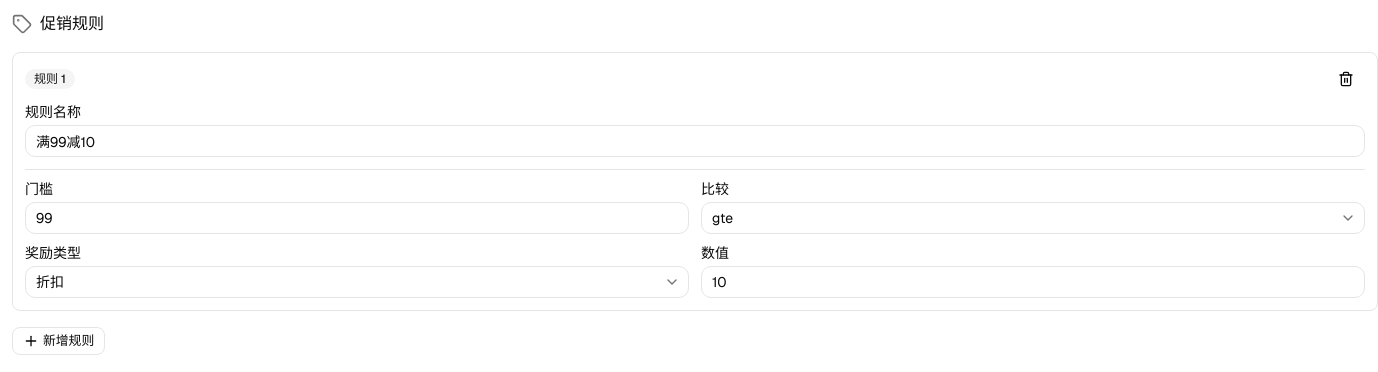
Test: PromotionRuleEditor › removes a rule when its delete button is clicked
The width and height of the screenshot is (1378, 372).
Check: the icon "规则 1" is shown, box [25,69,75,89]
Click the button named "删除规则 1" at {"x": 1346, "y": 79}, box [1327,65,1365,93]
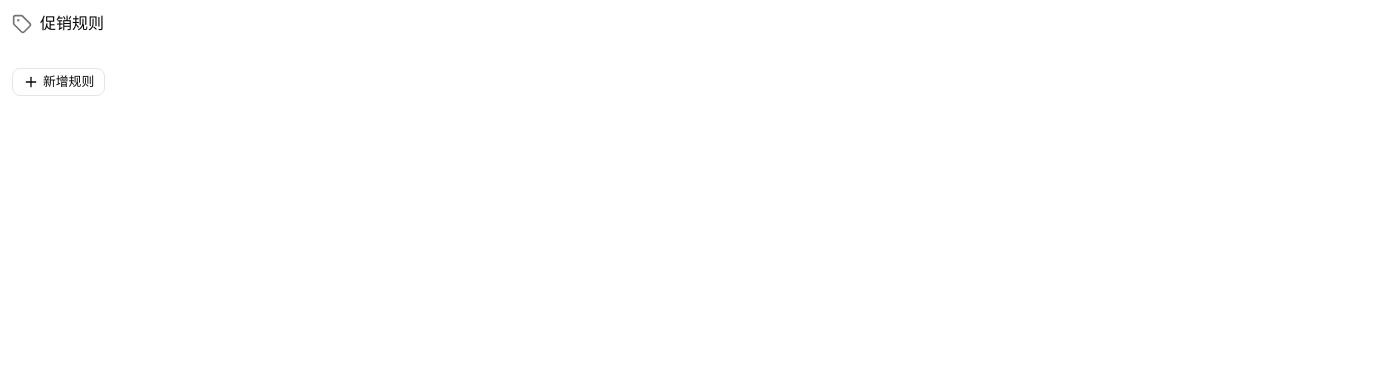
Check: the field showing "满99减10" is not shown
Check: the icon "规则 1" is gone
